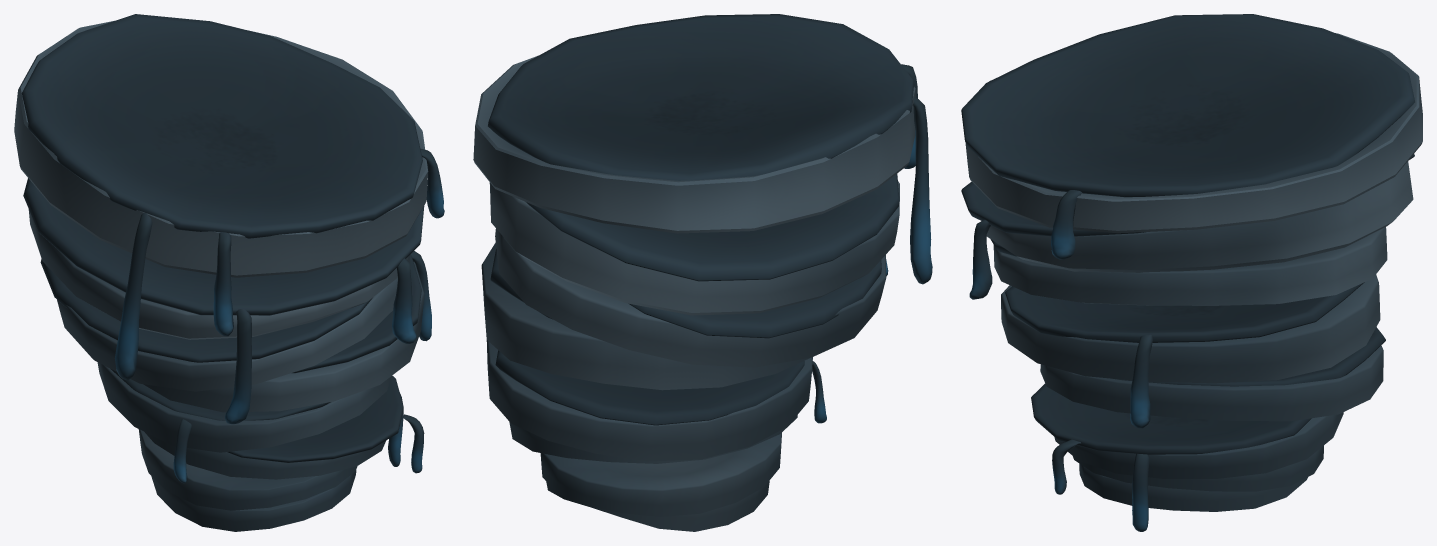
File: Mashroom01.FBX
The picture shows the model from 3 angles, left to right: view 1: azimuth 30°, elevation 25°; view 2: azimuth 150°, elevation 25°; view 3: azimuth 270°, elevation 25°; orthographic projection. The views are drawn at different scales.
Parts seen in each view (by area): view 1: msh02; view 2: msh02; view 3: msh02.
Part boxes in pixels (bbox=[...]): msh02: bbox=[14, 14, 444, 531]; msh02: bbox=[473, 14, 932, 531]; msh02: bbox=[961, 14, 1422, 531].
Bounding box in the file's own units: 373 × 403 × 430.
